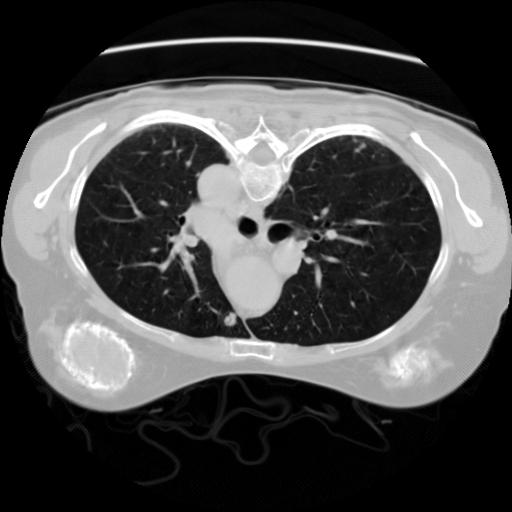nodule: (223, 312, 241, 330)
